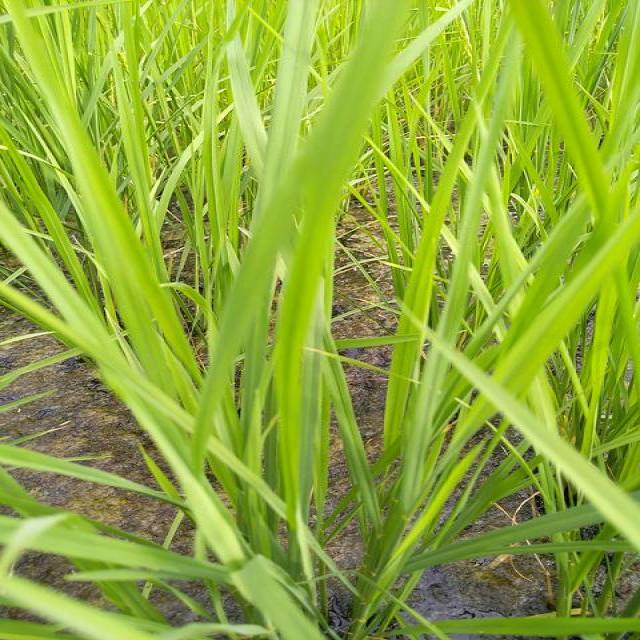Rice: (382, 119, 484, 445), (268, 15, 414, 222), (523, 10, 640, 241), (262, 217, 341, 541), (480, 230, 585, 435), (107, 265, 211, 455), (196, 212, 269, 471), (421, 486, 637, 568), (244, 1, 315, 224), (578, 225, 640, 480), (356, 440, 434, 626), (0, 526, 224, 590), (462, 28, 524, 241), (112, 45, 166, 269), (0, 439, 184, 501), (382, 607, 638, 640)
